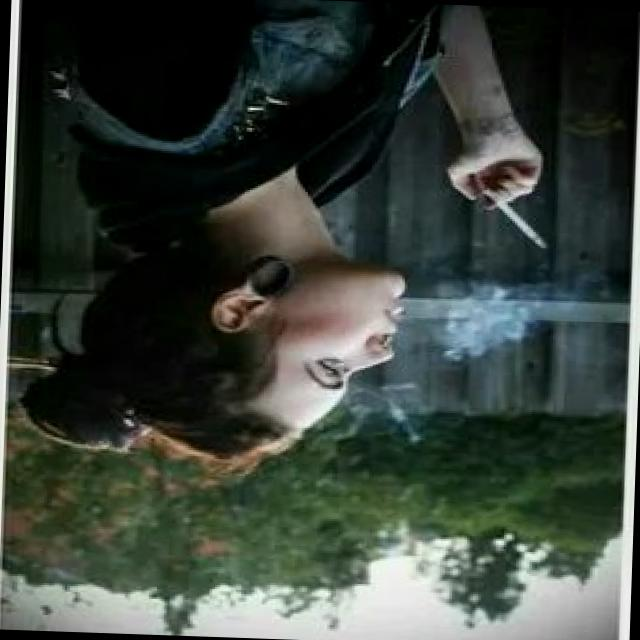cigarette: (466, 185, 552, 256)
